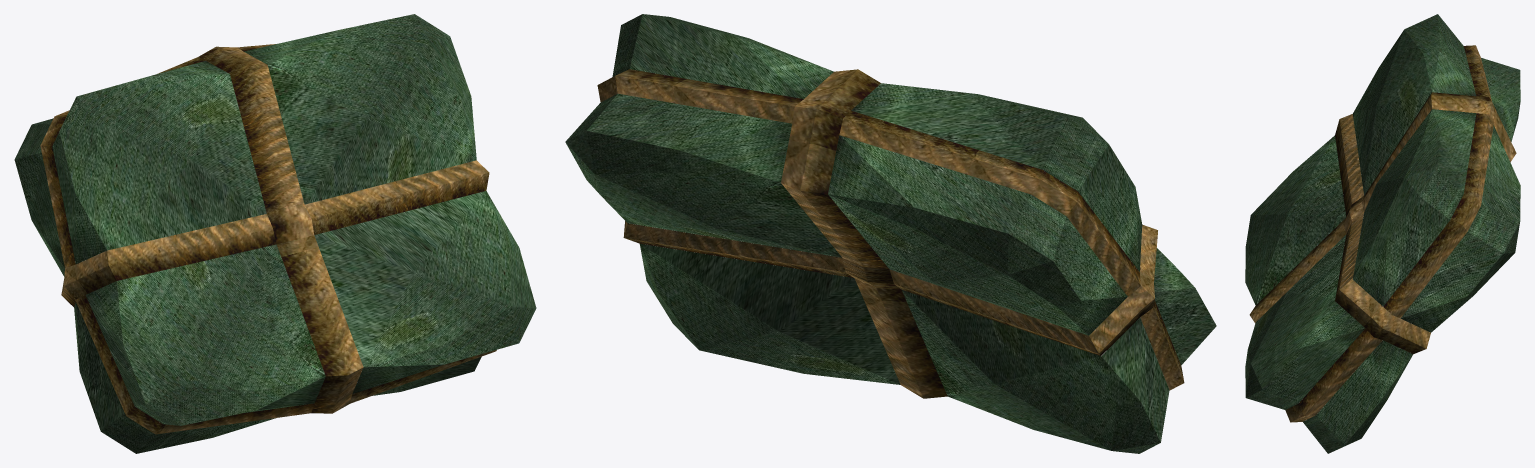
The model's file is KM_ITMI_PACKET_01.glb.
The picture shows the model from 3 angles, left to right: view 1: azimuth 30°, elevation 25°; view 2: azimuth 150°, elevation 25°; view 3: azimuth 270°, elevation 25°; orthographic projection. The views are drawn at different scales.
Parts seen in each view (by area): view 1: KM_ITMI_PACKET_01; view 2: KM_ITMI_PACKET_01; view 3: KM_ITMI_PACKET_01.
Boxes of the visible parts, <box> form: KM_ITMI_PACKET_01: <box>14,14,536,453</box>; KM_ITMI_PACKET_01: <box>565,14,1216,453</box>; KM_ITMI_PACKET_01: <box>1245,14,1520,453</box>.
Bounding box in the file's own units: 0.4578 × 0.3268 × 0.2808.
Materials: 2 (2 with a texture image).
